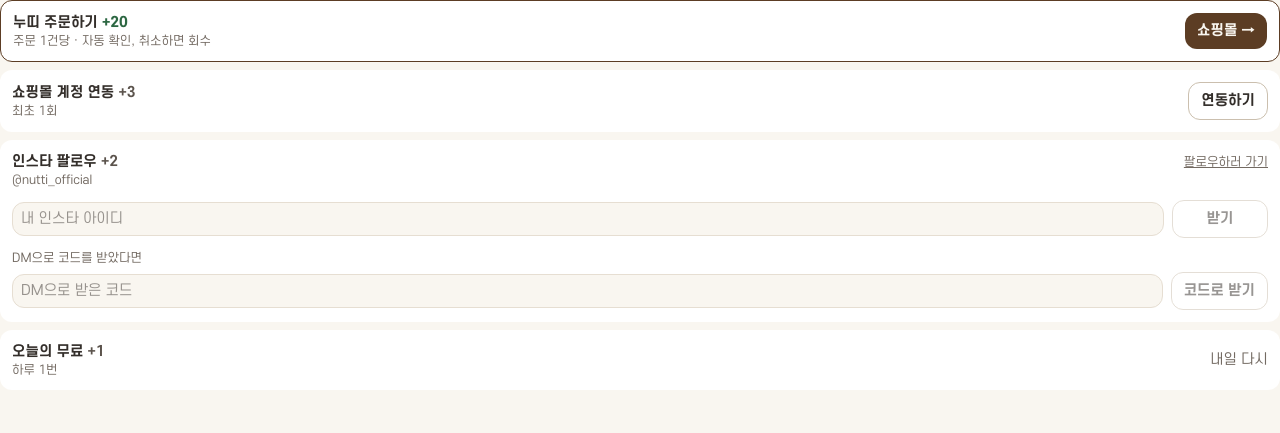
Scenario: 팔로우 받기는 아이디를 적고 누띠 계정을 연 뒤에만 눌린다
Expected: the button "받기" is disabled, [1172,200,1268,238]
Type "@Kong.Mom" into the field named "인스타그램 아이디" at point(588, 219), box [12,202,1164,236]
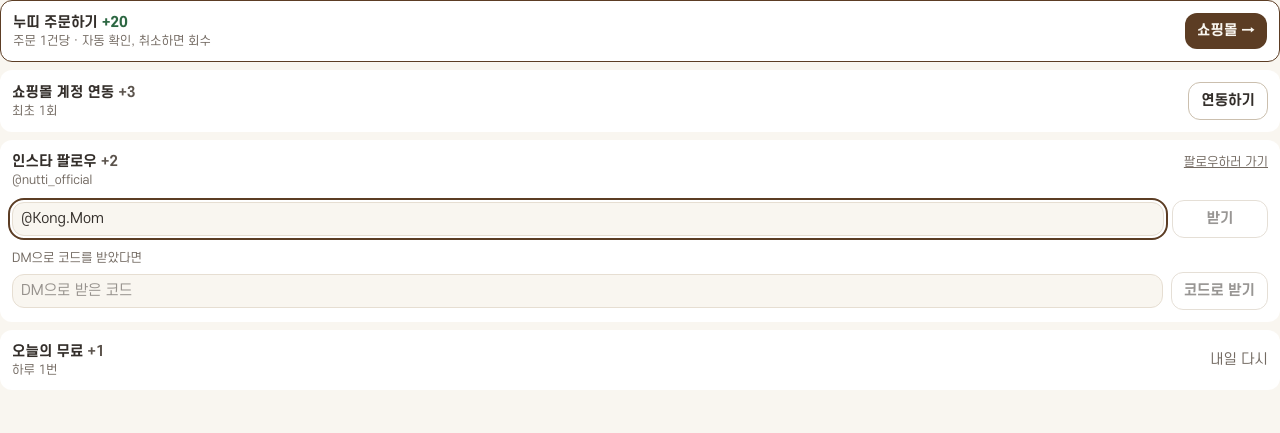
Expected: the button "받기" is disabled, [1172,200,1268,238]
Click the link "팔로우하러 가기" at point(1226, 162), box [1184,154,1268,170]
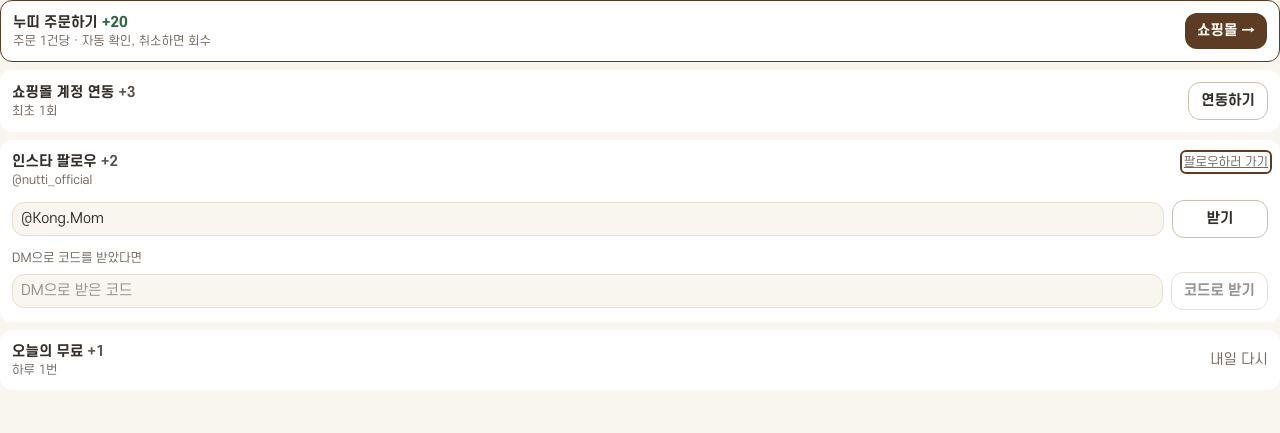
Now the button "받기" is enabled
Click the button "받기" at point(1220, 219), box [1172,200,1268,238]
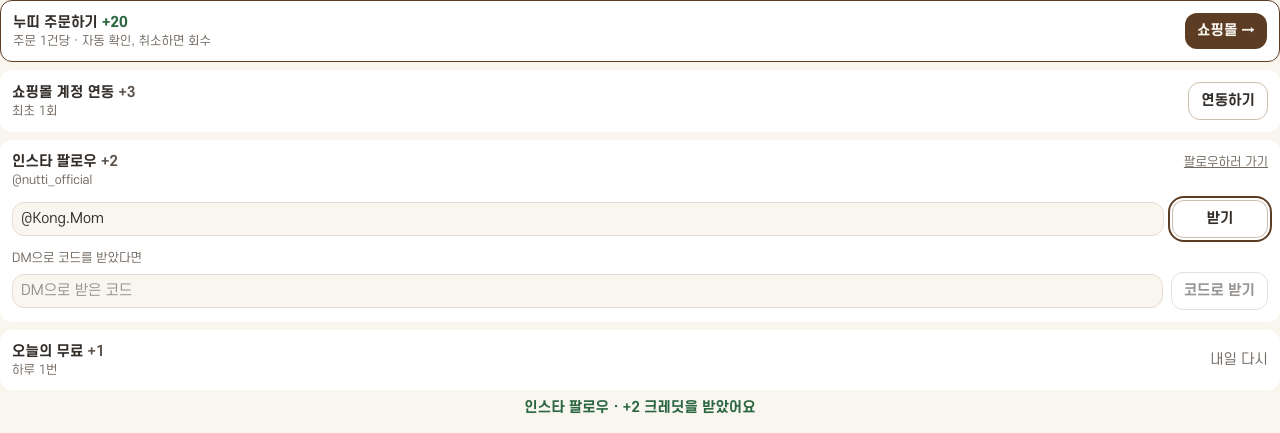
Now the text "인스타 팔로우 · +2 크레딧을 받았어요" is shown, box [524,399,756,416]
